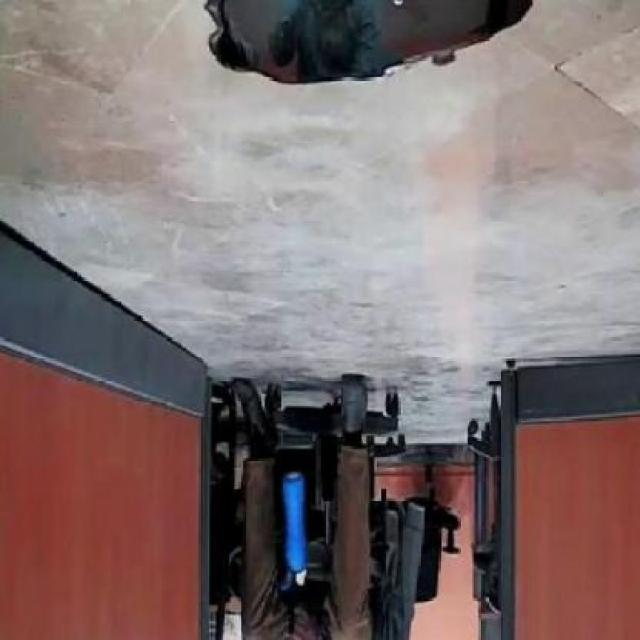spillage: (177, 0, 533, 93)
